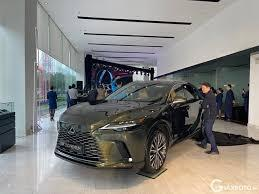lexus: (64, 124, 80, 135)
